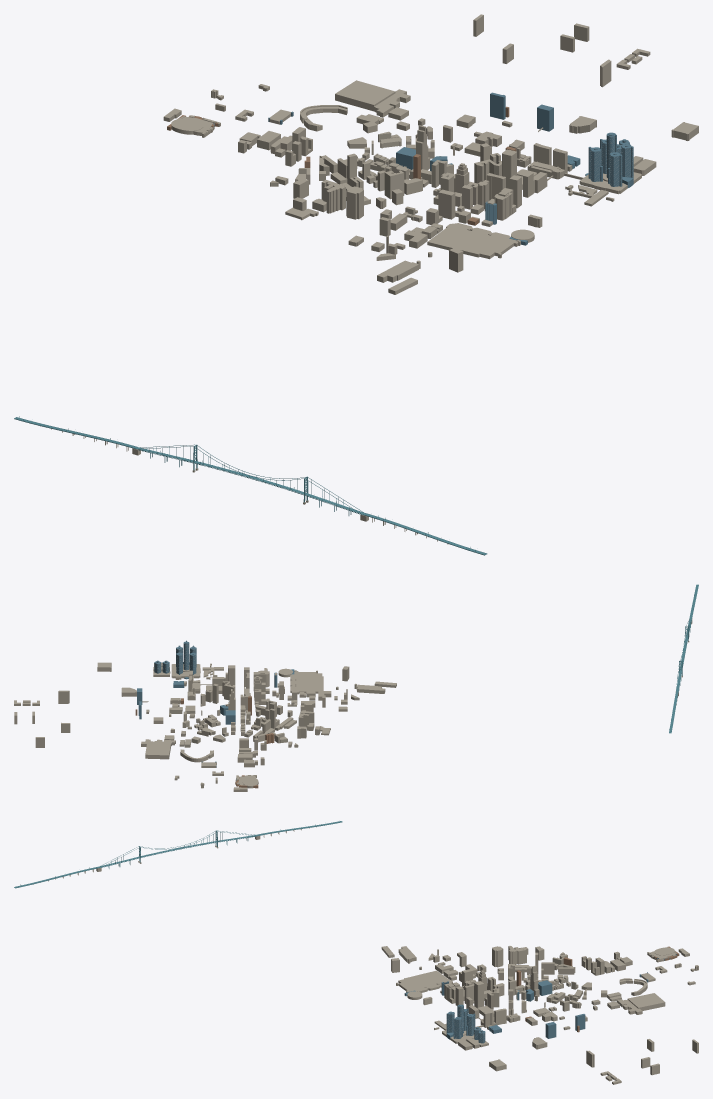
The model's file is detroit-skyline.glb.
3 renders of one model, top to bottom at view 1: azimuth 30°, elevation 25°; view 2: azimuth 150°, elevation 25°; view 3: azimuth 270°, elevation 25°, orthographic. The views are drawn at different scales.
Visible parts, largest first — view 1: Detroit Skyline • Detroit limestone, Detroit Skyline • Detroit reflective blue glass, Detroit Skyline • Ambassador blue steel; view 2: Detroit Skyline • Detroit limestone, Detroit Skyline • Detroit reflective blue glass, Detroit Skyline • Ambassador blue steel; view 3: Detroit Skyline • Detroit limestone, Detroit Skyline • Detroit reflective blue glass, Detroit Skyline • Ambassador blue steel.
Part boxes in pixels (x1,y1,x2,y2): Detroit Skyline • Detroit limestone: [40, 14, 698, 544]; Detroit Skyline • Detroit reflective blue glass: [202, 92, 633, 245]; Detroit Skyline • Ambassador blue steel: [14, 416, 487, 555]; Detroit Skyline • Detroit limestone: [14, 619, 692, 791]; Detroit Skyline • Detroit reflective blue glass: [137, 640, 294, 784]; Detroit Skyline • Ambassador blue steel: [669, 584, 698, 733]; Detroit Skyline • Detroit limestone: [33, 827, 698, 1084]; Detroit Skyline • Detroit reflective blue glass: [404, 954, 676, 1043]; Detroit Skyline • Ambassador blue steel: [14, 821, 342, 888].
Size of what is drawn, in the model's own units: 4133 by 224 by 4536.
